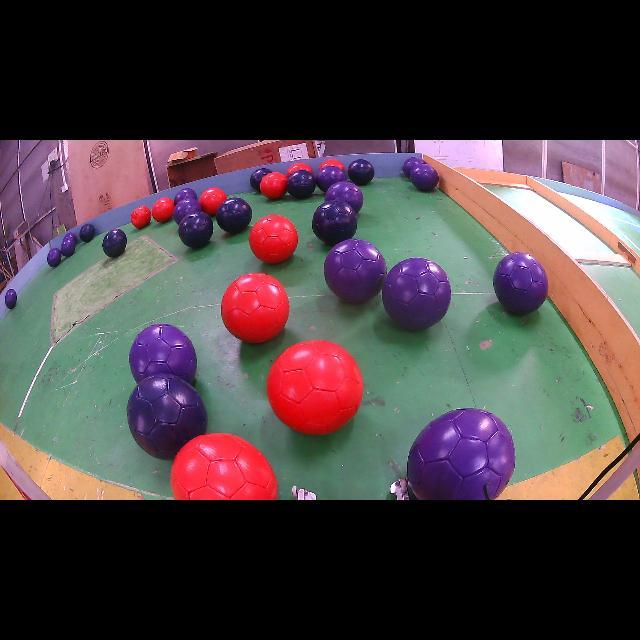B: (126, 374, 208, 459), (312, 200, 358, 245), (179, 211, 214, 248), (216, 198, 252, 232), (286, 170, 316, 199), (348, 159, 375, 185), (102, 229, 126, 258), (250, 168, 271, 192), (79, 224, 95, 242)
P: (408, 409, 515, 500), (382, 258, 451, 330), (130, 324, 196, 384), (324, 239, 386, 302), (494, 252, 548, 315), (325, 181, 364, 212), (316, 165, 346, 192), (410, 164, 439, 191), (174, 199, 201, 225), (402, 158, 425, 178), (174, 188, 198, 205), (60, 239, 76, 258), (46, 248, 61, 268), (5, 289, 18, 309), (63, 232, 78, 244)
R: (268, 340, 364, 435), (170, 434, 278, 500), (221, 272, 290, 342), (249, 215, 298, 264), (199, 188, 226, 215), (260, 172, 286, 200), (151, 198, 175, 222), (131, 206, 151, 229), (286, 162, 312, 178), (319, 159, 345, 171)
